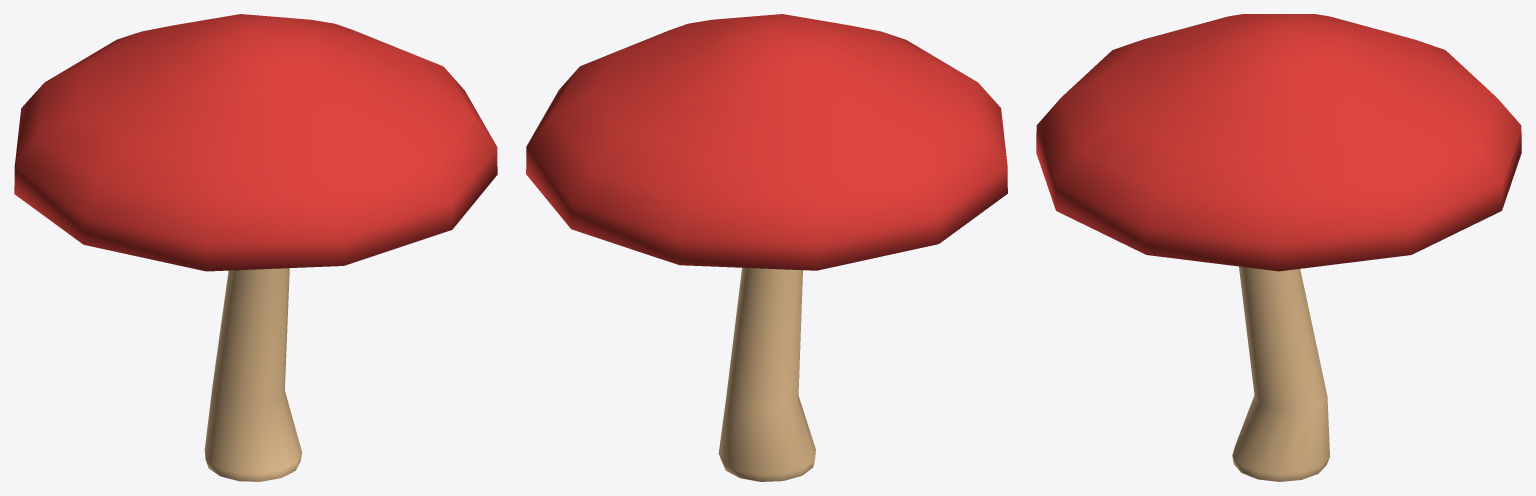
File: Hongo_2.fbx
3 renders of one model, left to right at view 1: azimuth 30°, elevation 25°; view 2: azimuth 150°, elevation 25°; view 3: azimuth 270°, elevation 25°, orthographic.
Visible parts, largest first — view 1: Honguito_2; view 2: Honguito_2; view 3: Honguito_2.
Boxes of the visible parts, x1,y1,x2,y2 form: Honguito_2: (14, 14, 497, 481); Honguito_2: (526, 14, 1007, 481); Honguito_2: (1036, 14, 1521, 481).
Size of the model in its own units: 51.36 by 51.33 by 51.89.
Materials: 1 (1 with a texture image).
